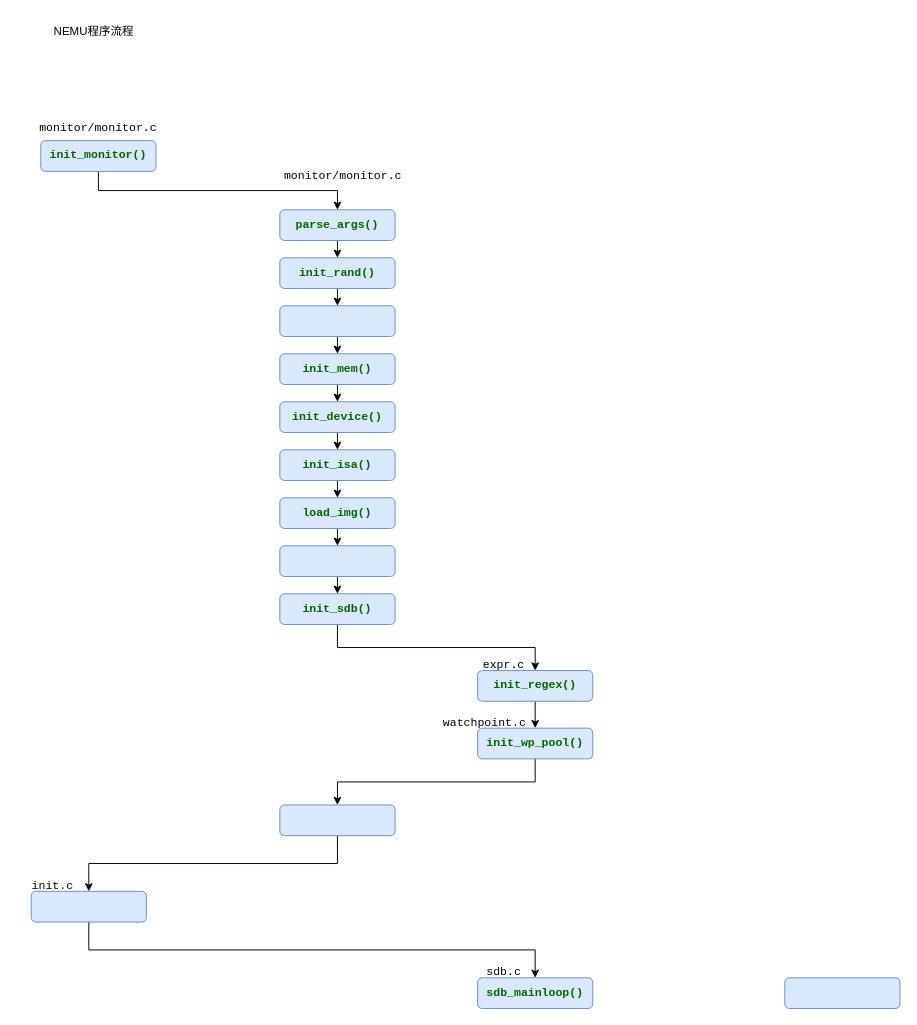
This 917x1025 diagram has some shape labels left out. Here are the shapes that lost their labels. From the top down, the box of each, then its label:
(279, 305, 395, 336): init_log()
(279, 545, 395, 576): init_difftest()
(279, 804, 395, 836): welcome()
(30, 890, 146, 922): engine_start()
(784, 977, 900, 1008): cpu_exec()
